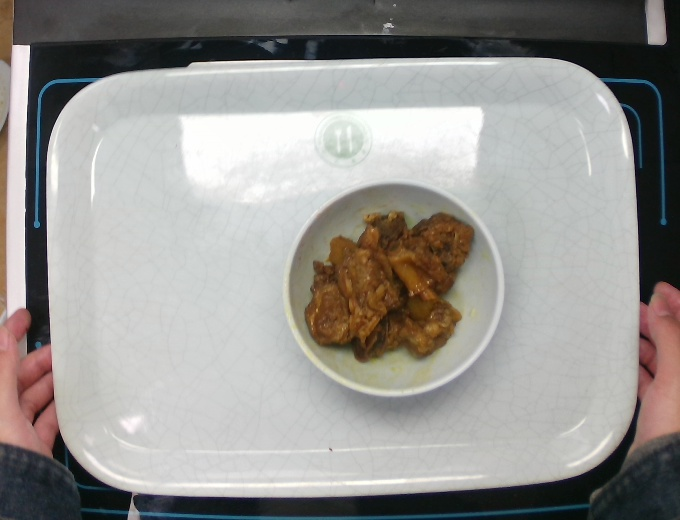JYsf-Fan_Wan: (281, 176, 506, 398)
